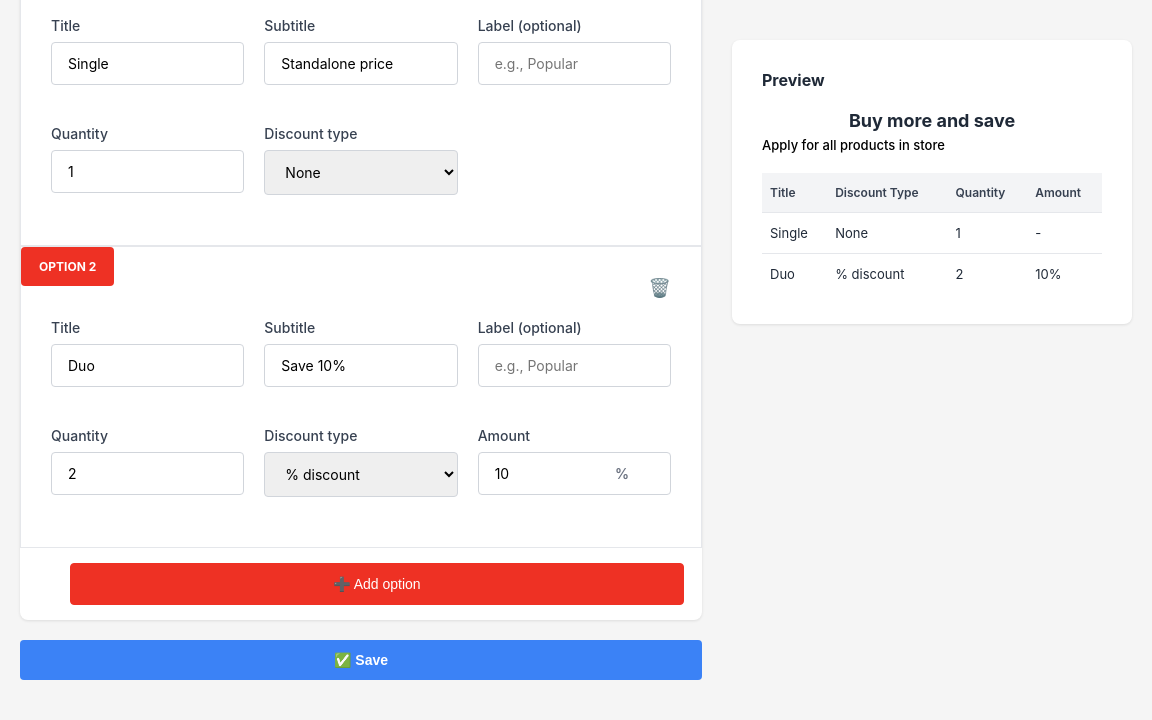
Test: VolumeDiscountForm Component › Field Array Management › adds a new option when Add option button is clicked
(page scrolled)
Check: the text "OPTION 2" is shown, box [21, 247, 114, 286]
Check: the text "OPTION 3" is not shown
Click the button "➕ Add option": (377, 584) [70, 563, 684, 605]
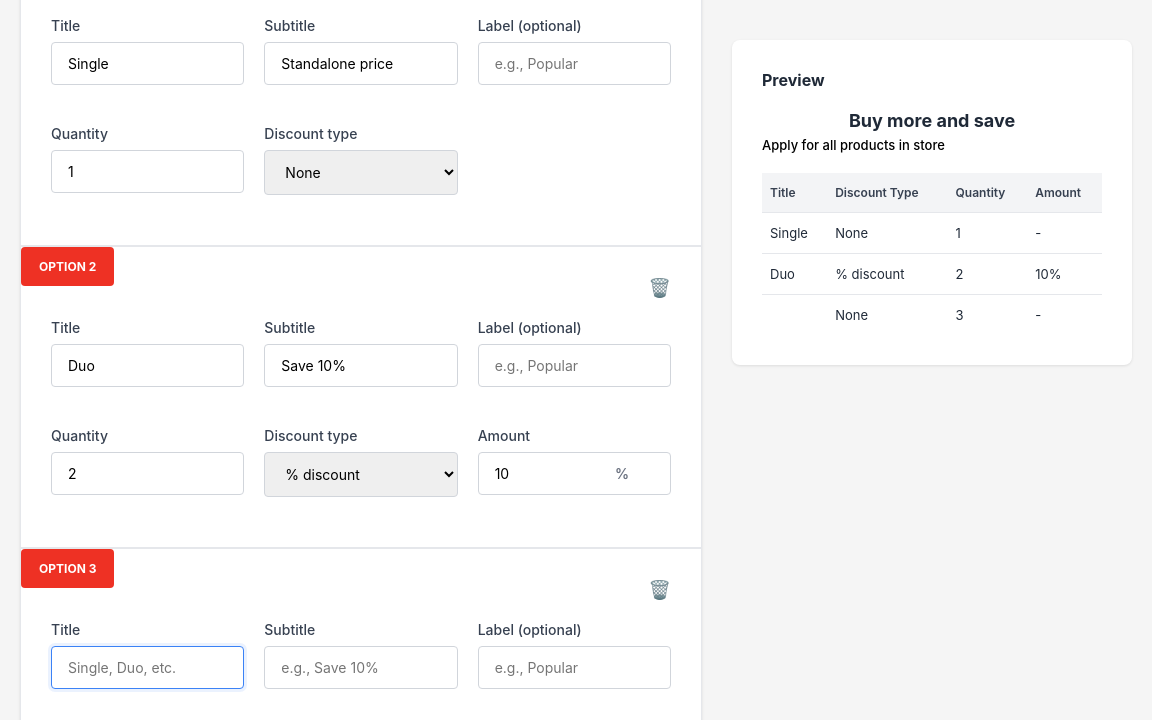
Check: the text "OPTION 3" is shown, box [21, 549, 114, 588]
